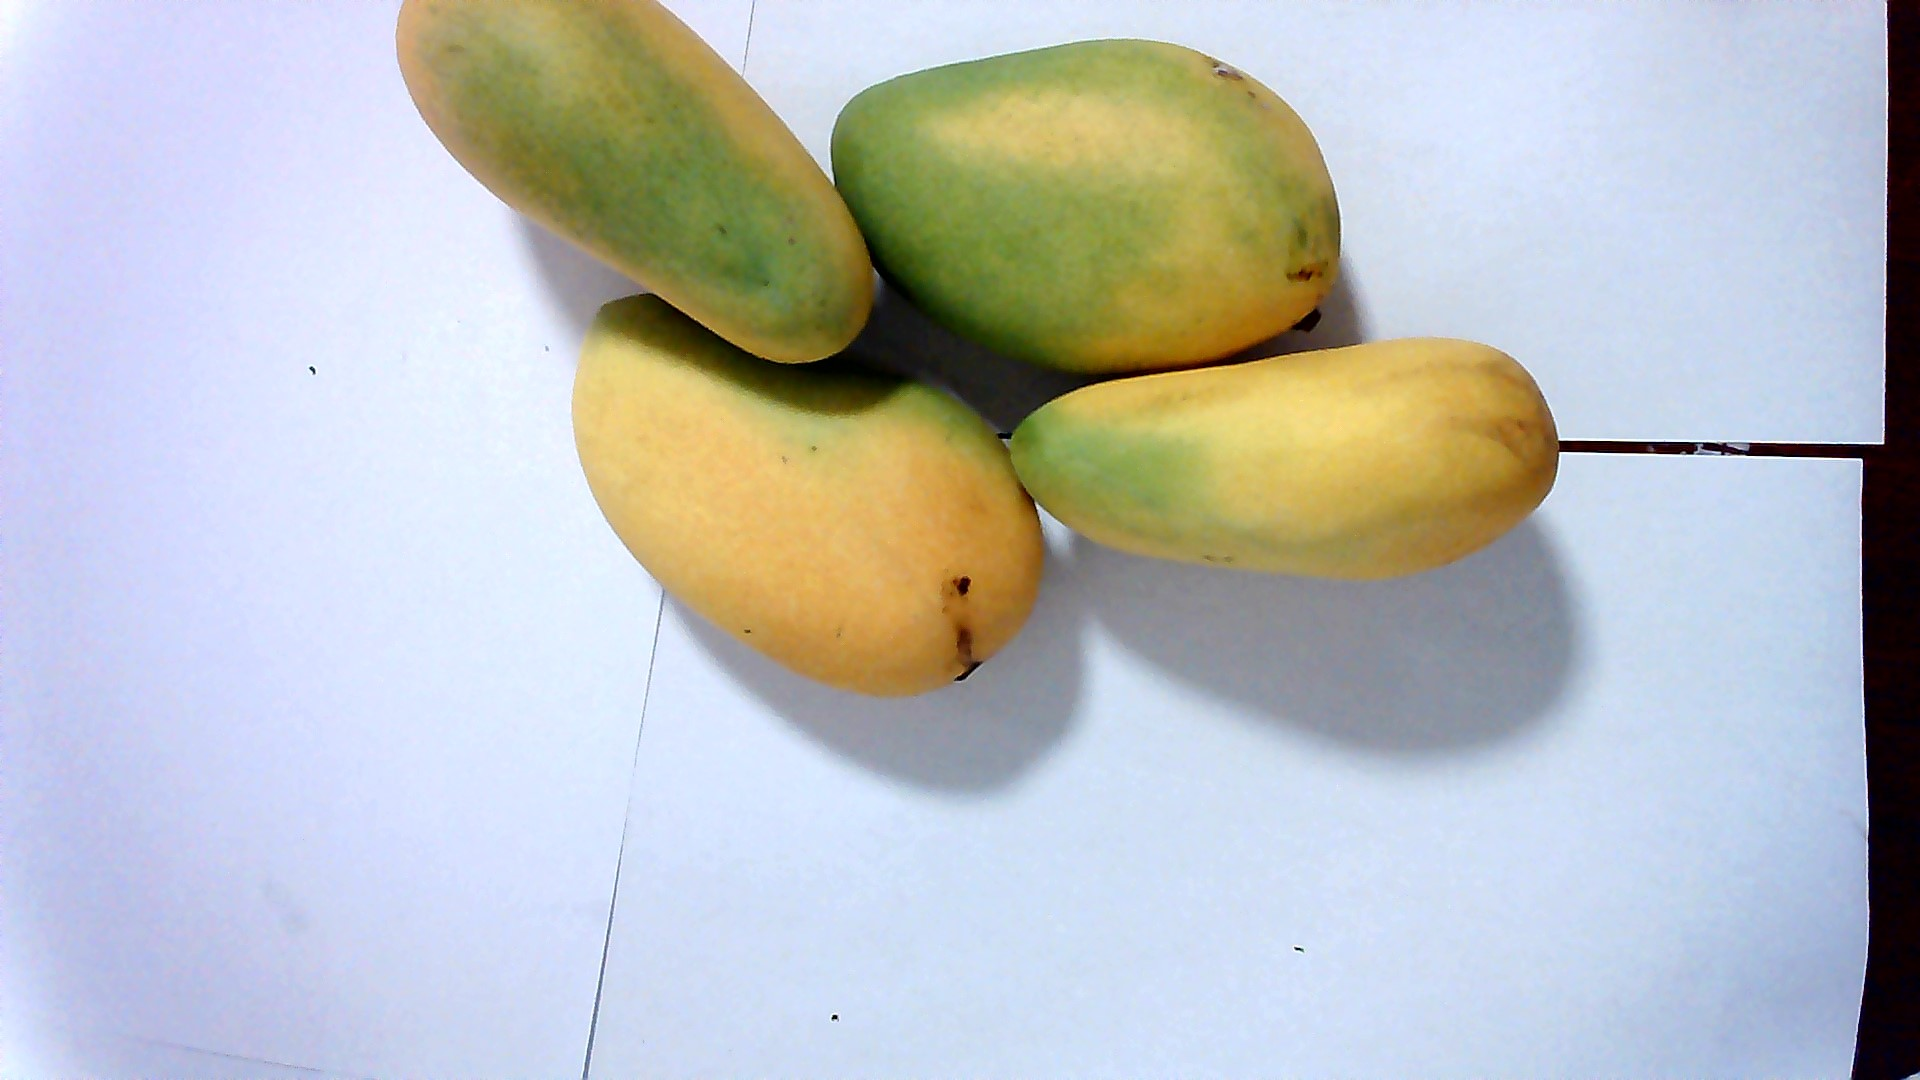mongo: (558, 286, 1046, 688), (392, 7, 878, 372), (818, 37, 1346, 351), (1019, 336, 1568, 607)
